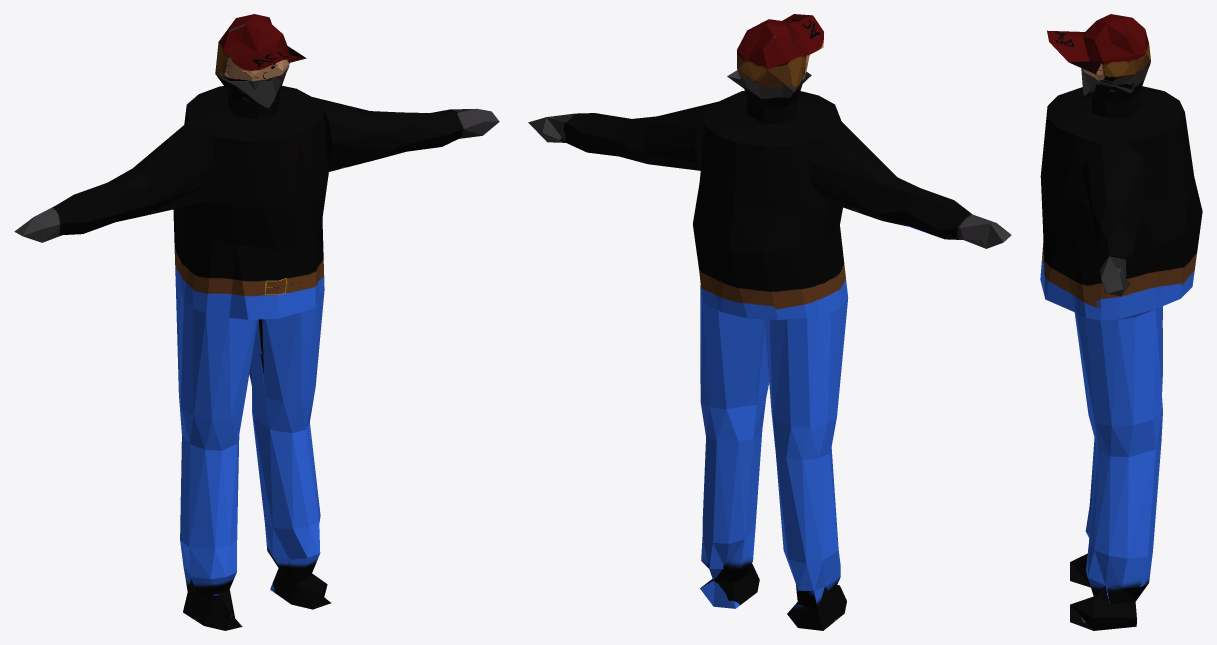
Rendered from Protestor.fbx.
3 renders of one model, left to right at view 1: azimuth 30°, elevation 25°; view 2: azimuth 150°, elevation 25°; view 3: azimuth 270°, elevation 25°, orthographic.
Parts seen in each view (by area): view 1: Cylinder; view 2: Cylinder; view 3: Cylinder.
Boxes of the visible parts, left/top/right/bottom form: Cylinder: left=14, top=14, right=499, bottom=630; Cylinder: left=528, top=14, right=1011, bottom=630; Cylinder: left=1040, top=14, right=1202, bottom=630.
Bounding box in the file's own units: 275 × 325 × 81.46.
